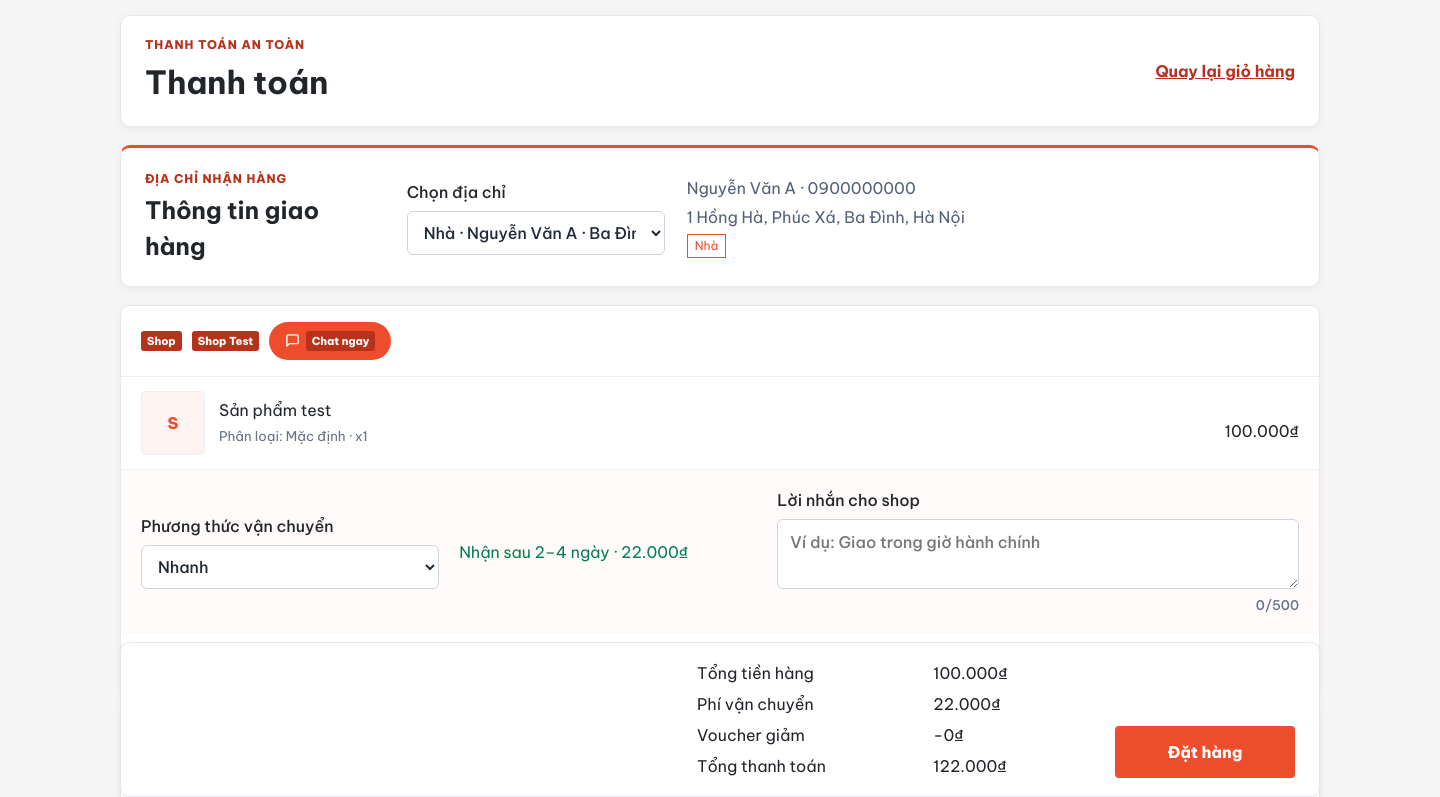
Test: checkout screens › renders authoritative totals and prevents duplicate confirmation clicks
Expected: the number of buttons "Chat ngay" is 1, [269, 322, 391, 360]
Double-click the button "Đặt hàng": (1205, 752) [1115, 726, 1295, 778]
(page scrolled)
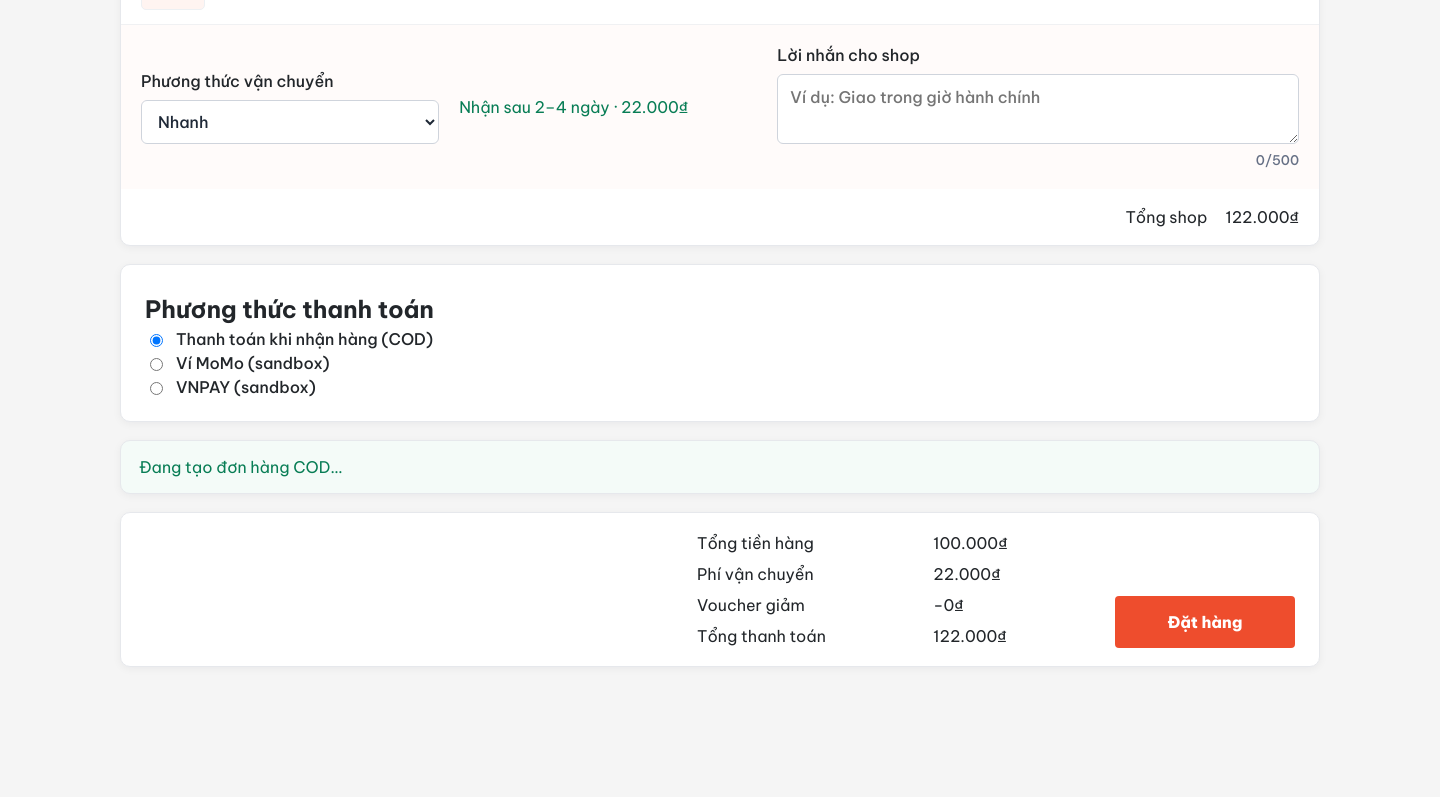
Now the text "Đang tạo đơn hàng COD…" is shown, box [139, 455, 342, 479]
